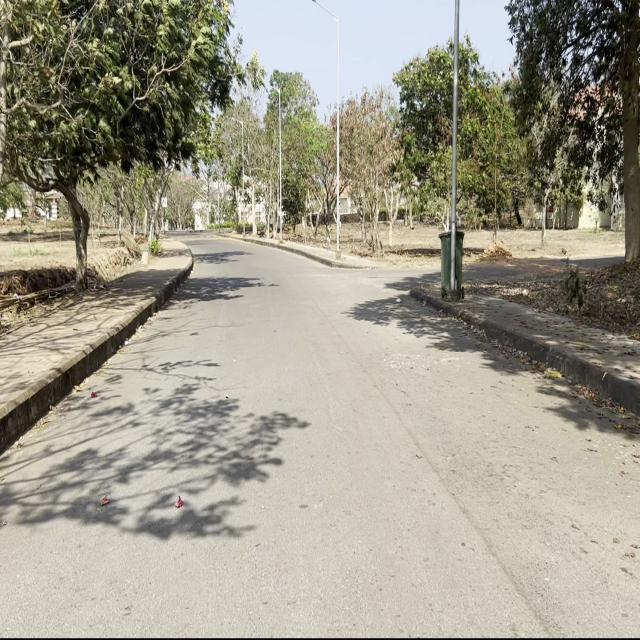Road: (2, 230, 638, 632)
